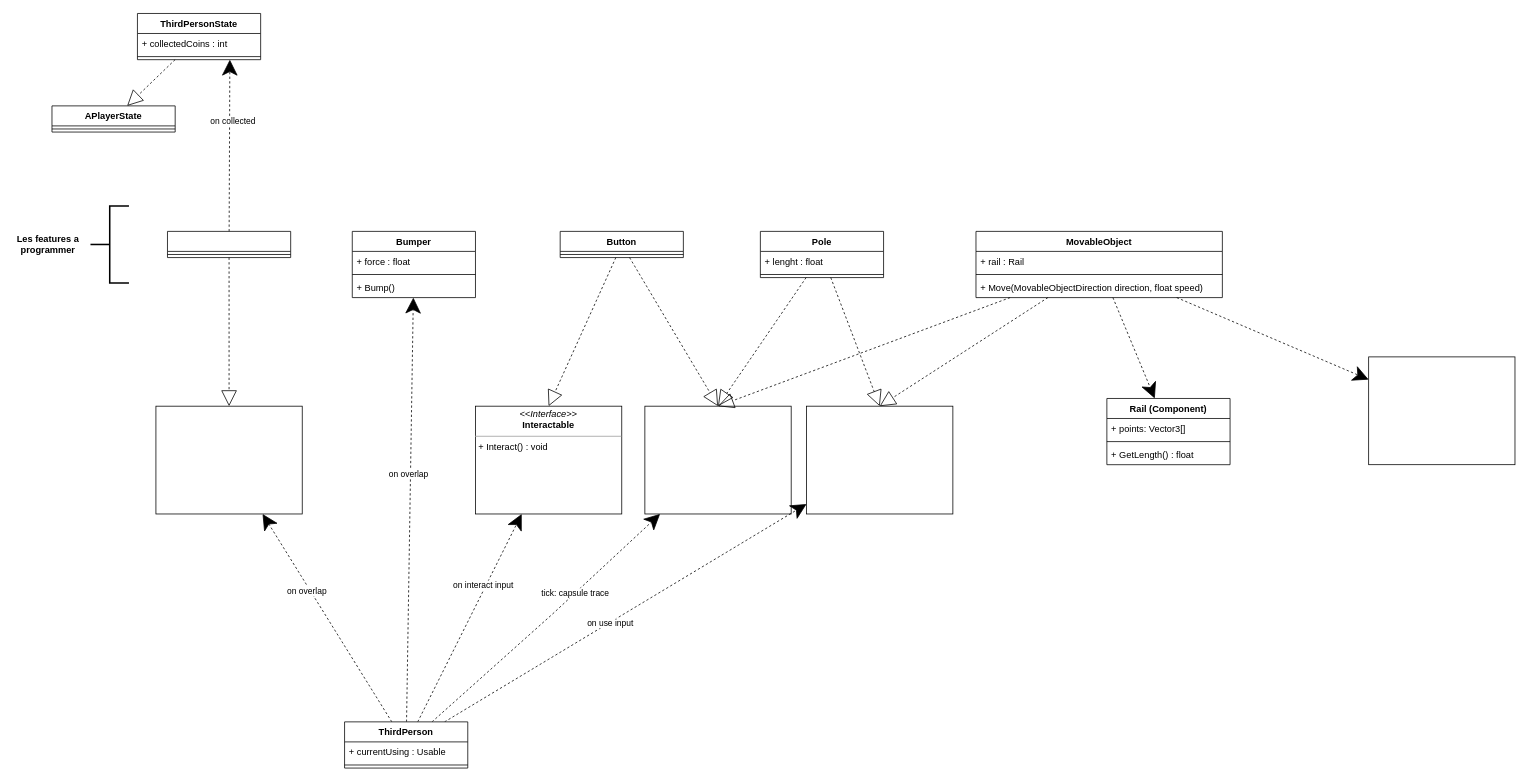
Some shapes in this 1528 by 782 pixel diagram are drawn without their labels. Each missing label, with the centre of its shape:
<<Enumeration>> MovableObjectDirection + Forward + Backward: the point at 1441,410
<<Interface>> Collectable + Collect() : void: the point at 228,459
<<Interface>> Hoverable + StartHover() : void + EndHover() : void: the point at 717,459
<<Interface>> Usable + StartUse() : void + StopUse() : void: the point at 879,459
Coin: the point at 229,244
